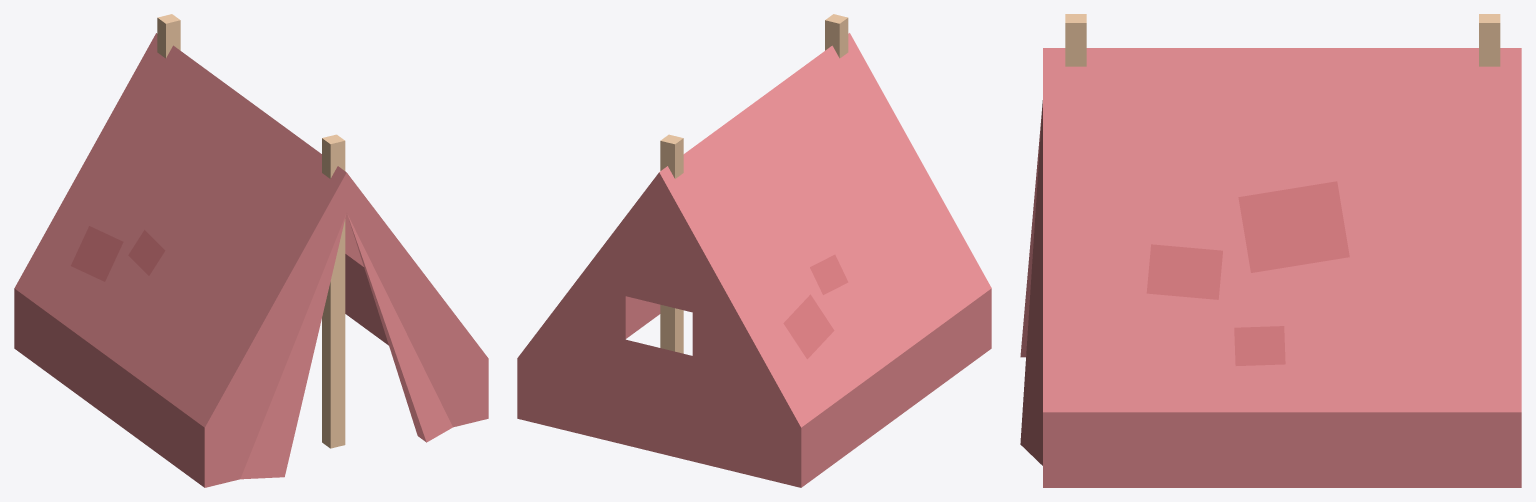
Rendered from tent_smallOpen.glb.
3 views of the same model, side by side, from view 1: azimuth 30°, elevation 25°; view 2: azimuth 150°, elevation 25°; view 3: azimuth 270°, elevation 25° (orthographic). The views are drawn at different scales.
Visible parts, largest first — view 1: tent_smallOpen; view 2: tent_smallOpen; view 3: tent_smallOpen.
Part boxes in pixels (box(x1,y1,x2,y2)): tent_smallOpen: box(14, 14, 488, 487); tent_smallOpen: box(517, 14, 991, 487); tent_smallOpen: box(1020, 14, 1521, 487).
Bounding box in the file's own units: 0.5476 × 0.5611 × 0.6664.
